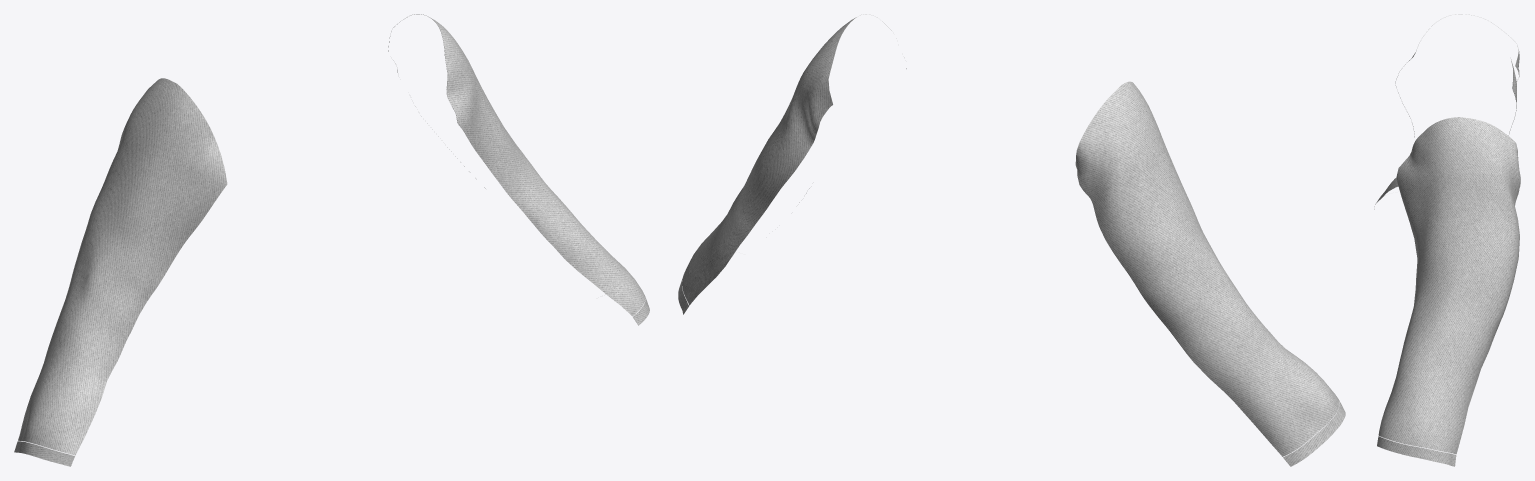
The model's file is Decor_Hand_Up_V1.glb.
3 views of the same model, side by side, from view 1: azimuth 30°, elevation 25°; view 2: azimuth 150°, elevation 25°; view 3: azimuth 270°, elevation 25° (orthographic). The views are drawn at different scales.
Parts seen in each view (by area): view 1: Decor_Hand_Up_V11; view 2: Decor_Hand_Up_V11; view 3: Decor_Hand_Up_V11.
Part boxes in pixels (x1,y1,x2,y2): Decor_Hand_Up_V11: (14,14,649,466); Decor_Hand_Up_V11: (678,14,1345,466); Decor_Hand_Up_V11: (1374,14,1520,466).
Size of the model in its own units: 1.71 by 0.8722 by 0.411.
1 material, 1 textured.
